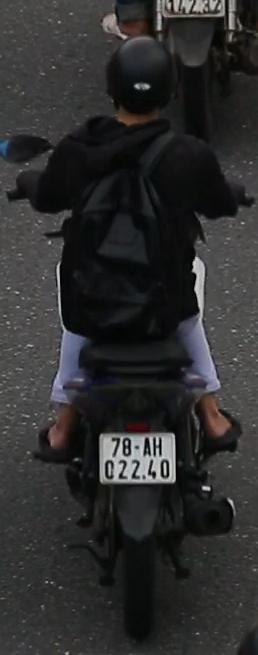LP: (95, 425, 182, 489)
helmet: (97, 36, 189, 148)
